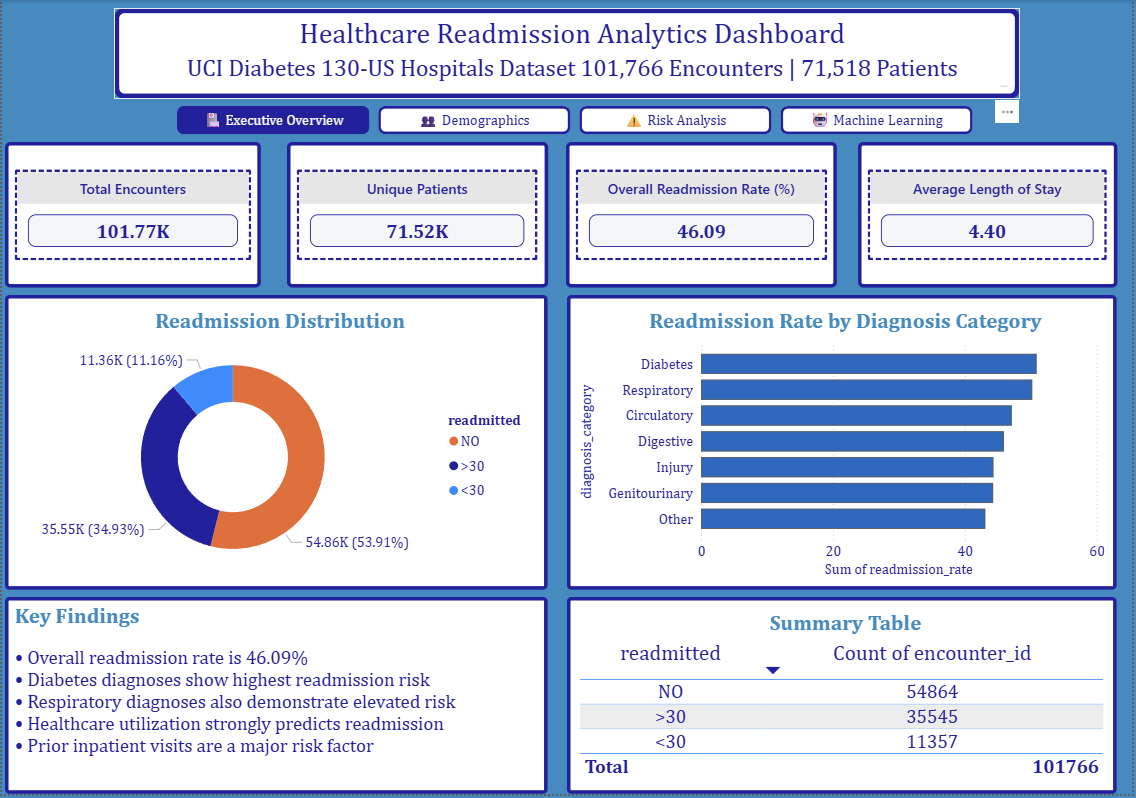

Layout of this report page (visuals, bound fields, positions):
{"tool":"powerbi","page":{"name":"🏥 Executive Overview","canvas":[1280,900],"ordinal":0},"visuals":[{"type":"textbox","title":"Healthcare Readmission Analytics Dashboard","box":[127,9.1,1027,103.1],"z":0},{"type":"cardVisual","fields":{"Data":["Max(Executive_KPIs.Value)"],"Rows":["Executive_KPIs.Metric"]},"box":[3.4,161,290.2,165.5],"z":1000},{"type":"cardVisual","fields":{"Data":["Max(Executive_KPIs.Value)"],"Rows":["Executive_KPIs.Metric"]},"box":[323,161,295.8,165.5],"z":2000},{"type":"cardVisual","fields":{"Data":["Max(Executive_KPIs.Value)"],"Rows":["Executive_KPIs.Metric"]},"box":[639.3,161,307.2,165.5],"z":3000},{"type":"cardVisual","fields":{"Data":["Max(Executive_KPIs.Value)"],"Rows":["Executive_KPIs.Metric"]},"box":[970.3,161,293.6,165.5],"z":4000},{"type":"donutChart","title":"Readmission Distribution","fields":{"Category":["Healthcare_Data.readmitted"],"Y":["CountNonNull(Healthcare_Data.encounter_id)"]},"box":[3.4,334.4,615.5,334.4],"z":5000},{"type":"clusteredBarChart","title":"Readmission Rate by Diagnosis Category","fields":{"Category":["Diagnosis_Summary.diagnosis_category"],"Y":["Sum(Diagnosis_Summary.readmission_rate)"]},"box":[640.4,334.4,623.4,334.4],"z":6000},{"type":"textbox","title":"Key Findings","box":[3.4,676.7,615.5,223.3],"z":7000},{"type":"tableEx","title":"Summary Table","fields":{"Values":["Healthcare_Data.readmitted","CountNonNull(Healthcare_Data.encounter_id)"]},"box":[640.4,676.7,623.4,223.3],"z":8000},{"type":"pageNavigator","box":[198.4,120.2,902.3,32.9],"z":9000}]}

Visuals, with their boxes in screenshot pixels (x1, y1, x2, y2), scaled from the page's 1280x900 canvas onto the 1136x798 screenshot:
"Healthcare Readmission Analytics Dashboard" textbox: (x1=113, y1=8, x2=1024, y2=99)
cardVisual - Max(Executive_KPIs.Value) x Executive_KPIs.Metric: (x1=3, y1=143, x2=261, y2=289)
cardVisual - Max(Executive_KPIs.Value) x Executive_KPIs.Metric: (x1=287, y1=143, x2=549, y2=289)
cardVisual - Max(Executive_KPIs.Value) x Executive_KPIs.Metric: (x1=567, y1=143, x2=840, y2=289)
cardVisual - Max(Executive_KPIs.Value) x Executive_KPIs.Metric: (x1=861, y1=143, x2=1122, y2=289)
"Readmission Distribution" donutChart: (x1=3, y1=297, x2=549, y2=593)
"Readmission Rate by Diagnosis Category" clusteredBarChart: (x1=568, y1=297, x2=1122, y2=593)
"Key Findings" textbox: (x1=3, y1=600, x2=549, y2=797)
"Summary Table" tableEx: (x1=568, y1=600, x2=1122, y2=797)
pageNavigator: (x1=176, y1=107, x2=977, y2=136)
